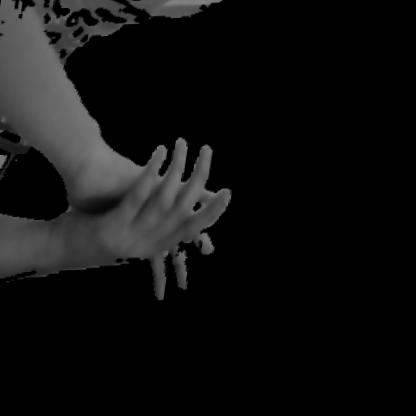clap: (0, 119, 255, 319)
